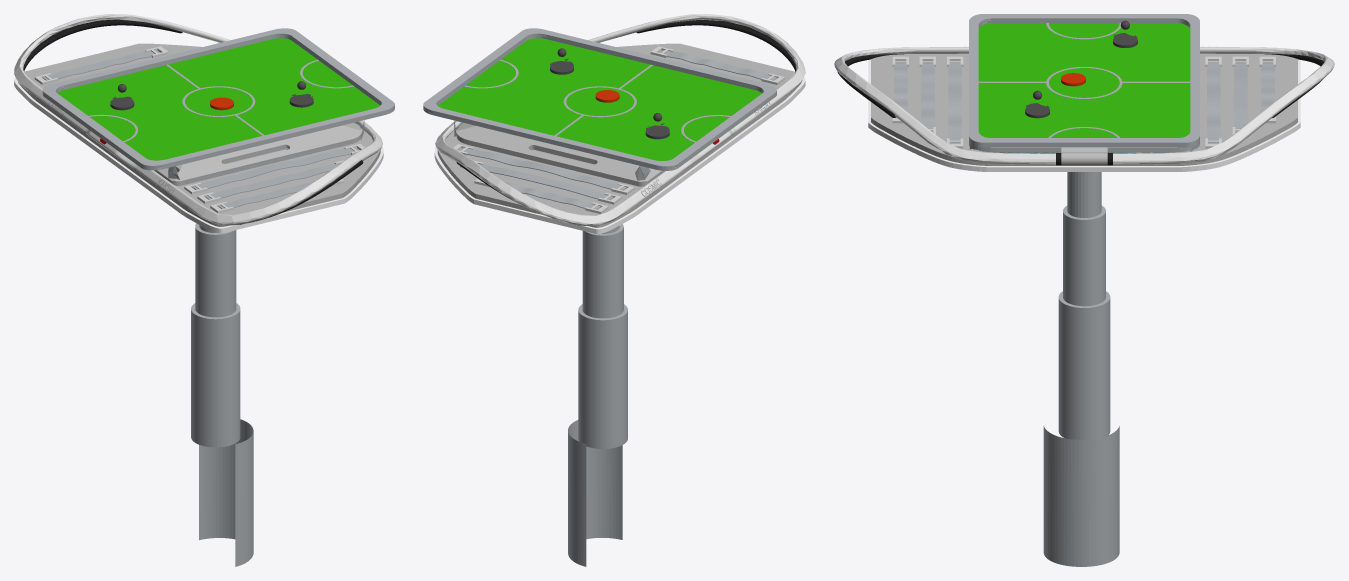
Rendered from cosmic-kaksh.glb.
3 renders of one model, left to right at view 1: azimuth 30°, elevation 25°; view 2: azimuth 150°, elevation 25°; view 3: azimuth 270°, elevation 25°, orthographic. The views are drawn at different scales.
Visible parts, largest first — view 1: material--1, material-12, material-5, material-0, material-6, material-4, material-14; view 2: material--1, material-12, material-5, material-0, material-6, material-4, material-14; view 3: material--1, material-12, material-5, material-0, material-6, material-4, material-14.
Part boxes in pixels (box(x1,y1,x2,y2)): material--1: box(42, 28, 394, 566); material-12: box(57, 38, 380, 160); material-5: box(18, 43, 380, 226); material-0: box(14, 14, 382, 225); material-6: box(14, 77, 383, 233); material-4: box(23, 19, 363, 225); material-14: box(110, 81, 313, 110); material--1: box(423, 28, 776, 566); material-12: box(438, 38, 761, 160); material-5: box(437, 43, 801, 227); material-0: box(435, 14, 805, 226); material-6: box(434, 77, 805, 233); material-4: box(456, 19, 796, 201); material-14: box(550, 48, 669, 139); material--1: box(894, 14, 1274, 566); material-12: box(978, 23, 1190, 137); material-5: box(871, 53, 1297, 165); material-0: box(834, 47, 1334, 164); material-6: box(868, 59, 1300, 171); material-4: box(837, 54, 1324, 165); material-14: box(1025, 20, 1137, 118).
Bounding box in the file's own units: 1.12 × 2 × 1.84.
